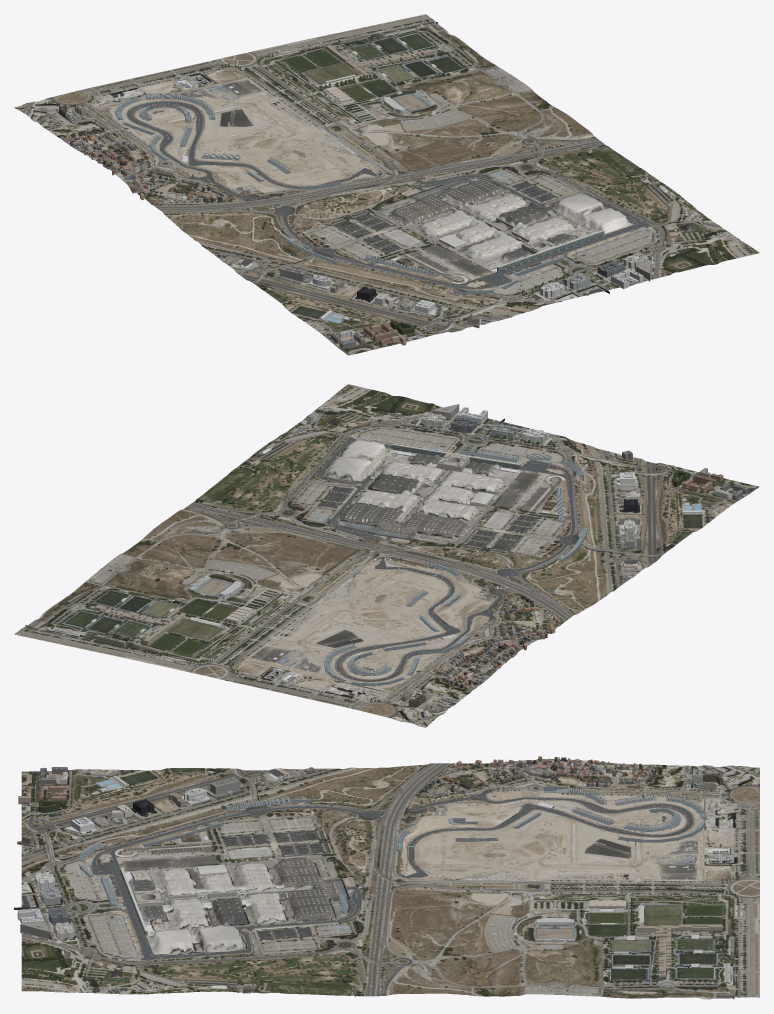
The model's file is madring.glb.
3 renders of one model, top to bottom at view 1: azimuth 30°, elevation 25°; view 2: azimuth 150°, elevation 25°; view 3: azimuth 270°, elevation 25°, orthographic. The views are drawn at different scales.
Parts seen in each view (by area): view 1: Madring_LiDAR_2026_RealScale_Terrain, Madring_Municipal_LoD2_IFEMA_And_Neighbours, Madring_2026_Event_Grandstands, Madring_Surveyed_Raceway, Madring_Municipal_Safety_Walls, Madring_Municipal_Asphalt_Runoff, Madring_Pit_Building_14_Garages_Paddock_Club; view 2: Madring_LiDAR_2026_RealScale_Terrain, Madring_Municipal_LoD2_IFEMA_And_Neighbours, Madring_2026_Event_Grandstands, Madring_Surveyed_Raceway, Madring_Municipal_Safety_Walls, Madring_Municipal_Asphalt_Runoff, Madring_Pit_Building_14_Garages_Paddock_Club; view 3: Madring_LiDAR_2026_RealScale_Terrain, Madring_Municipal_LoD2_IFEMA_And_Neighbours, Madring_2026_Event_Grandstands, Madring_Surveyed_Raceway, Madring_Municipal_Safety_Walls, Madring_Municipal_Asphalt_Runoff, Madring_Pit_Lane.
Part boxes in pixels (left/top/right/bottom): Madring_LiDAR_2026_RealScale_Terrain: left=14, top=14, right=759, bottom=355; Madring_Municipal_LoD2_IFEMA_And_Neighbours: left=46, top=22, right=718, bottom=348; Madring_2026_Event_Grandstands: left=115, top=93, right=565, bottom=295; Madring_Surveyed_Raceway: left=128, top=101, right=640, bottom=288; Madring_Municipal_Safety_Walls: left=126, top=101, right=654, bottom=289; Madring_Municipal_Asphalt_Runoff: left=132, top=104, right=647, bottom=287; Madring_Pit_Building_14_Garages_Paddock_Club: left=497, top=230, right=604, bottom=272; Madring_LiDAR_2026_RealScale_Terrain: left=14, top=384, right=759, bottom=727; Madring_Municipal_LoD2_IFEMA_And_Neighbours: left=25, top=404, right=748, bottom=706; Madring_2026_Event_Grandstands: left=324, top=447, right=587, bottom=686; Madring_Surveyed_Raceway: left=319, top=440, right=575, bottom=681; Madring_Municipal_Safety_Walls: left=314, top=434, right=576, bottom=682; Madring_Municipal_Asphalt_Runoff: left=315, top=437, right=571, bottom=680; Madring_Pit_Building_14_Garages_Paddock_Club: left=391, top=443, right=520, bottom=469; Madring_LiDAR_2026_RealScale_Terrain: left=21, top=759, right=759, bottom=999; Madring_Municipal_LoD2_IFEMA_And_Neighbours: left=14, top=756, right=743, bottom=999; Madring_2026_Event_Grandstands: left=78, top=786, right=707, bottom=912; Madring_Surveyed_Raceway: left=92, top=795, right=693, bottom=958; Madring_Municipal_Safety_Walls: left=90, top=788, right=695, bottom=961; Madring_Municipal_Asphalt_Runoff: left=92, top=791, right=688, bottom=959; Madring_Pit_Lane: left=111, top=846, right=185, bottom=957.
Bounding box in the file's own units: 1607 × 75.55 × 2273.
18 materials, 1 textured.
